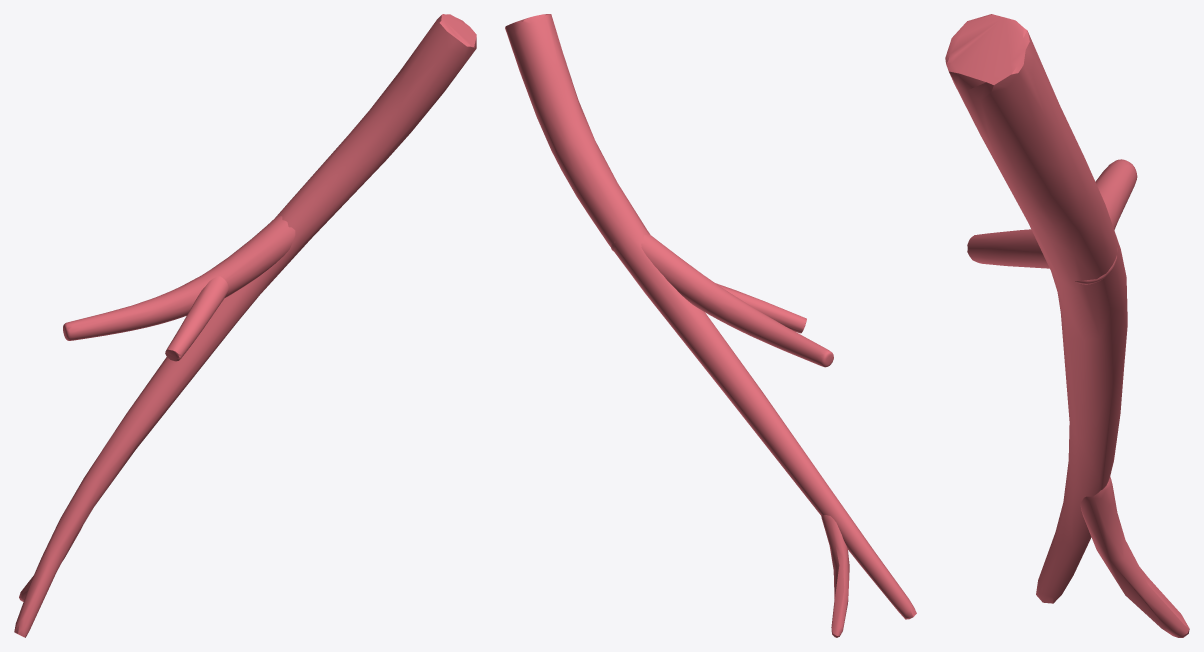
The model's file is fma8631_cx260.glb.
3 renders of one model, left to right at view 1: azimuth 30°, elevation 25°; view 2: azimuth 150°, elevation 25°; view 3: azimuth 270°, elevation 25°, orthographic. The views are drawn at different scales.
Visible parts, largest first — view 1: FMA8631_CX260; view 2: FMA8631_CX260; view 3: FMA8631_CX260.
Boxes of the visible parts, <box> form: FMA8631_CX260: <box>14,14,476,637</box>; FMA8631_CX260: <box>505,14,916,637</box>; FMA8631_CX260: <box>945,14,1189,637</box>.
Size of the model in its own units: 0.0597 by 0.068 by 0.0161.
